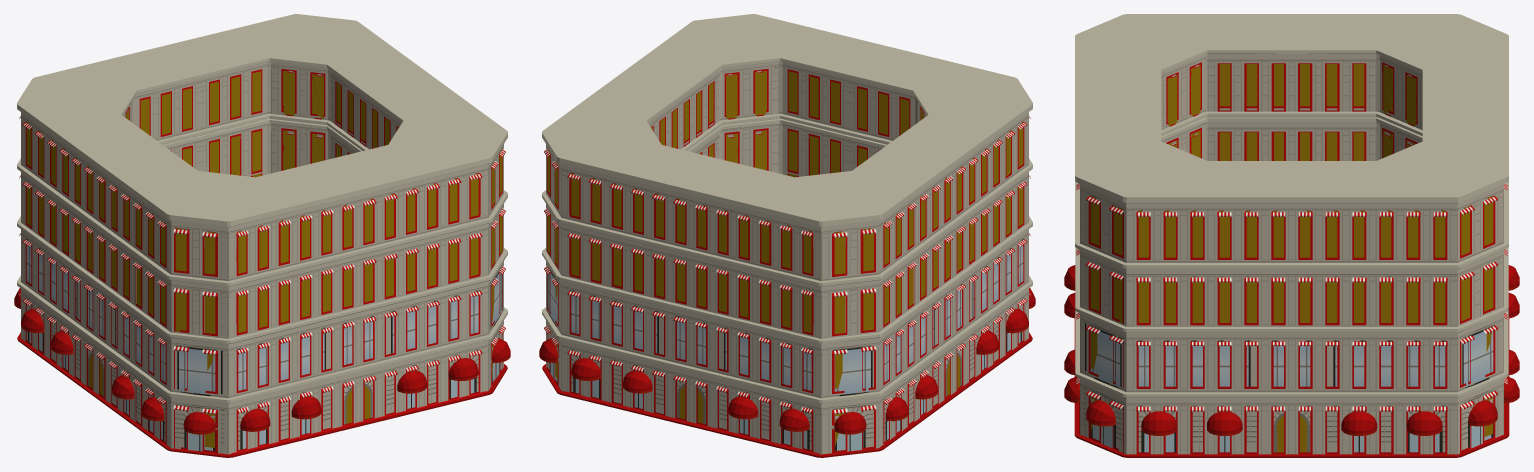
3 views of the same model, side by side, from view 1: azimuth 30°, elevation 25°; view 2: azimuth 150°, elevation 25°; view 3: azimuth 270°, elevation 25° (orthographic). The views are drawn at different scales.
Parts seen in each view (by area): view 1: frenchBase.021, frenchBase.029, frenchRoofBig.005; view 2: frenchBase.021, frenchBase.029, frenchRoofBig.005; view 3: frenchBase.029, frenchBase.021, frenchRoofBig.005.
Part boxes in pixels (x1=…): frenchBase.021: x1=17, y1=61, x2=507, y2=454; frenchBase.029: x1=14, y1=14, x2=510, y2=453; frenchRoofBig.005: x1=17, y1=332, x2=507, y2=457; frenchBase.021: x1=542, y1=61, x2=1032, y2=454; frenchBase.029: x1=539, y1=14, x2=1035, y2=451; frenchRoofBig.005: x1=542, y1=332, x2=1032, y2=457; frenchBase.029: x1=1064, y1=14, x2=1519, y2=452; frenchBase.021: x1=1075, y1=54, x2=1508, y2=454; frenchRoofBig.005: x1=1074, y1=318, x2=1509, y2=457.
Bounding box in the file's own units: 0.7953 × 0.5047 × 0.7953.
